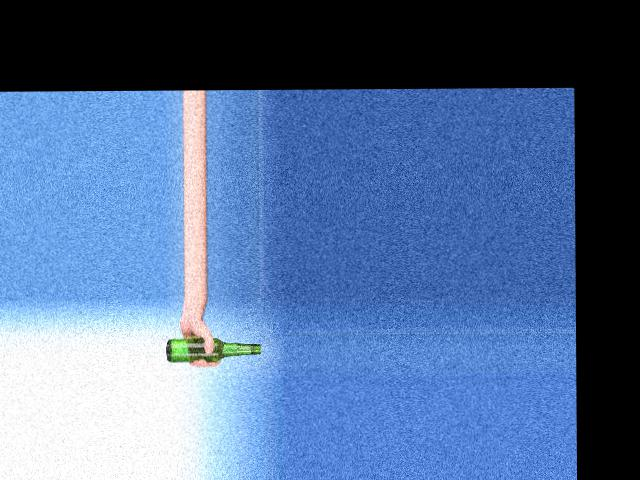beer: (166, 338, 261, 361)
